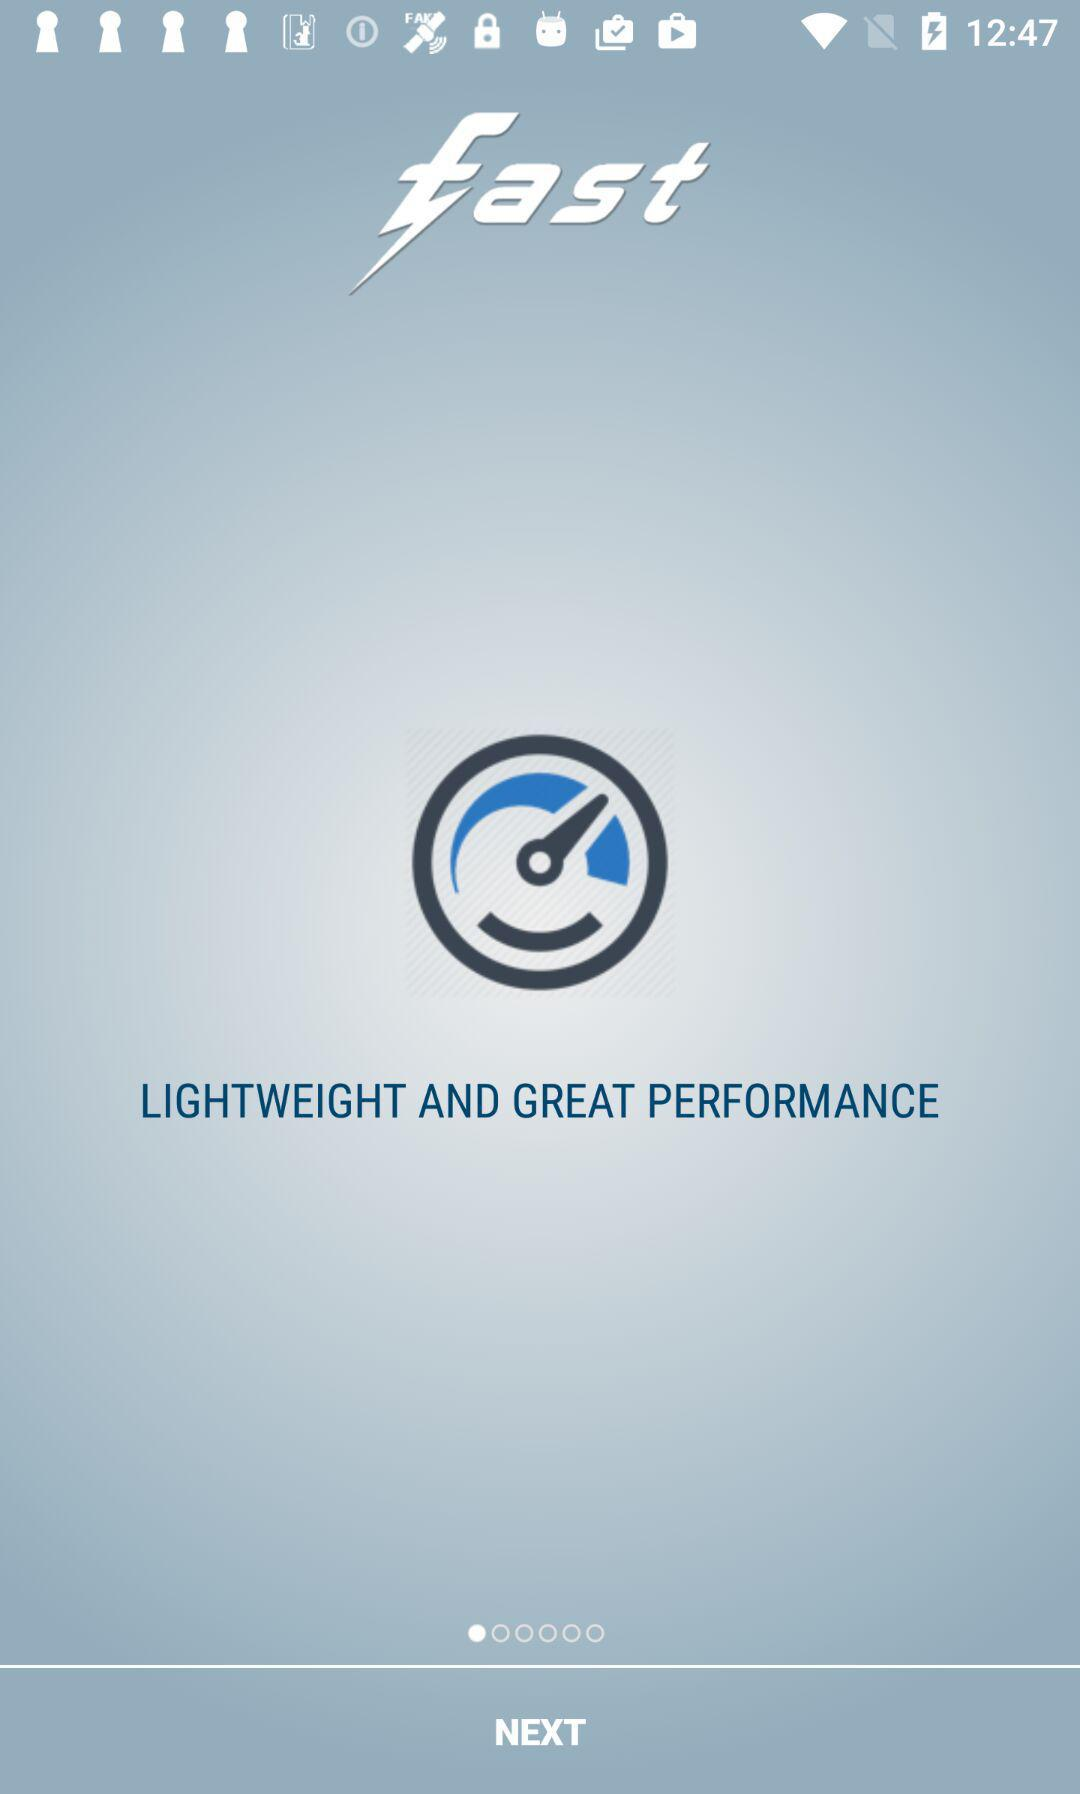Image: (411, 734, 670, 993), (348, 110, 711, 292)
PageIndicator: (468, 1622, 606, 1645)
Text: (141, 1080, 942, 1123), (495, 1718, 588, 1747)
UpperTaskBar: (1, 1, 1080, 58)
